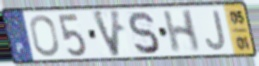5: (56, 12, 89, 58)
H: (161, 8, 202, 55)
J: (204, 9, 228, 53)
O: (29, 13, 61, 58)
S: (127, 10, 162, 57)
V: (90, 8, 123, 59)
